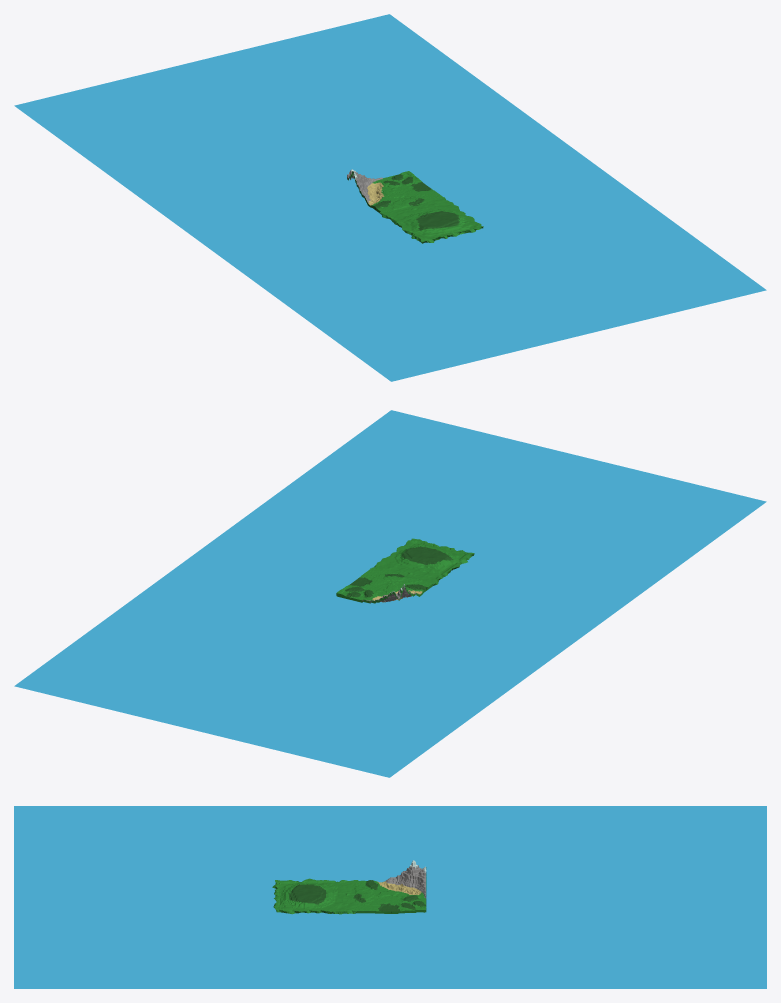
Rendered from tryout.fbx.
The picture shows the model from 3 angles, top to bottom: view 1: azimuth 30°, elevation 25°; view 2: azimuth 150°, elevation 25°; view 3: azimuth 270°, elevation 25°; orthographic projection.
Visible parts, largest first — view 1: Plane; view 2: Plane; view 3: Plane.
Part boxes in pixels (box(x1,y1,x2,y2)): Plane: box(14, 14, 766, 381); Plane: box(14, 410, 766, 777); Plane: box(14, 806, 766, 988).
Size of the model in its own units: 107023 by 6710 by 186186.
